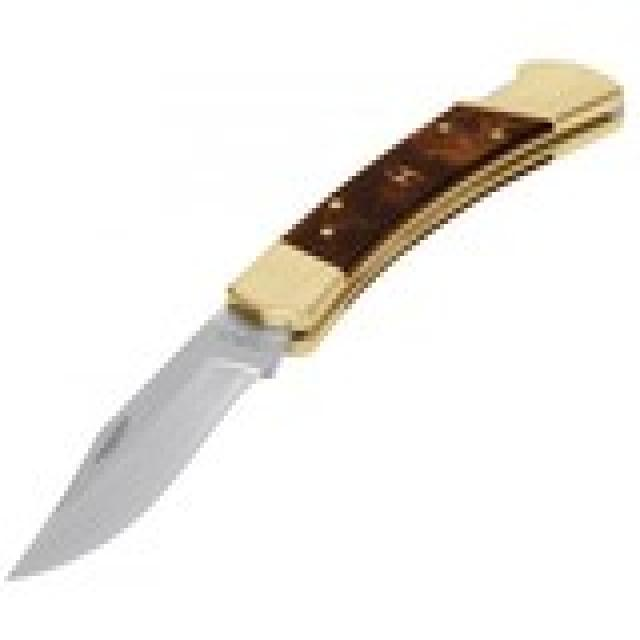Knife: (2, 51, 627, 599)
